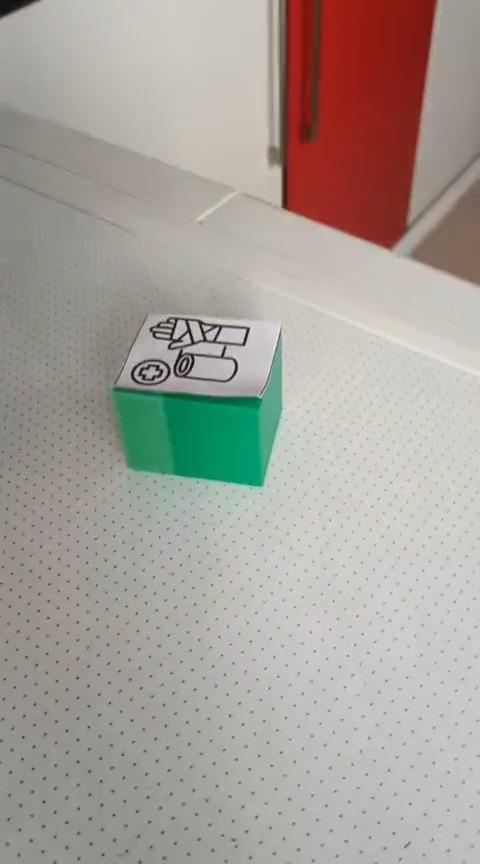Bandages: (112, 310, 284, 489)
